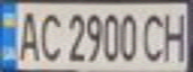0: (118, 9, 142, 63), (103, 9, 121, 63)
2: (63, 8, 87, 63)
9: (81, 8, 106, 63)
A: (12, 7, 42, 62)
C: (139, 9, 169, 62), (36, 8, 63, 63)
H: (160, 7, 193, 63)
